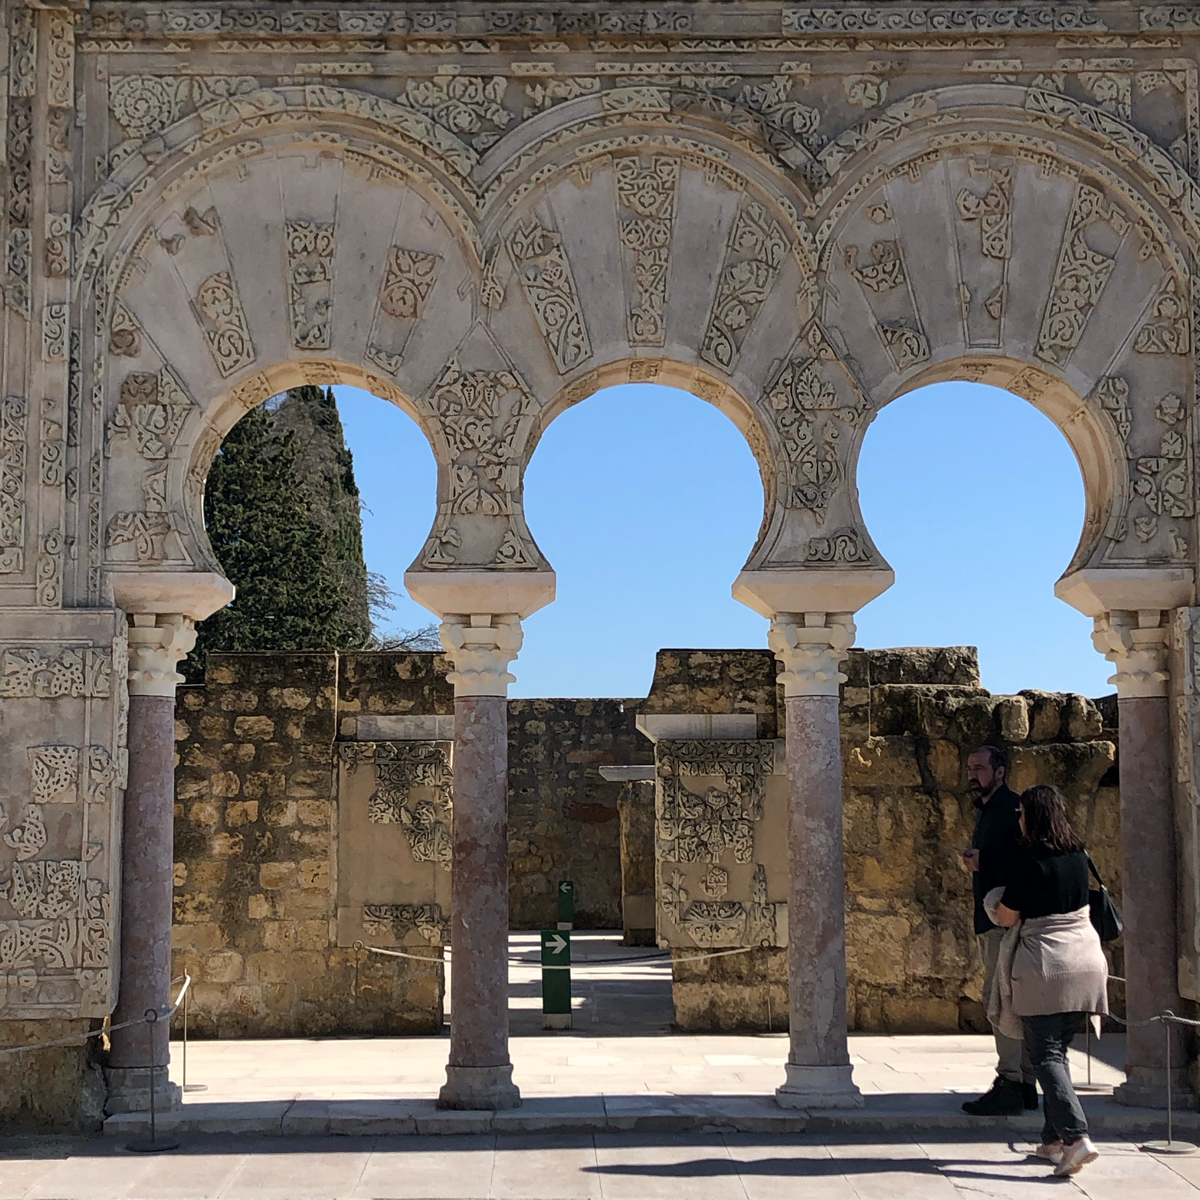arco-herradura: (802, 330, 1138, 660), (476, 326, 809, 657), (143, 343, 479, 655)
